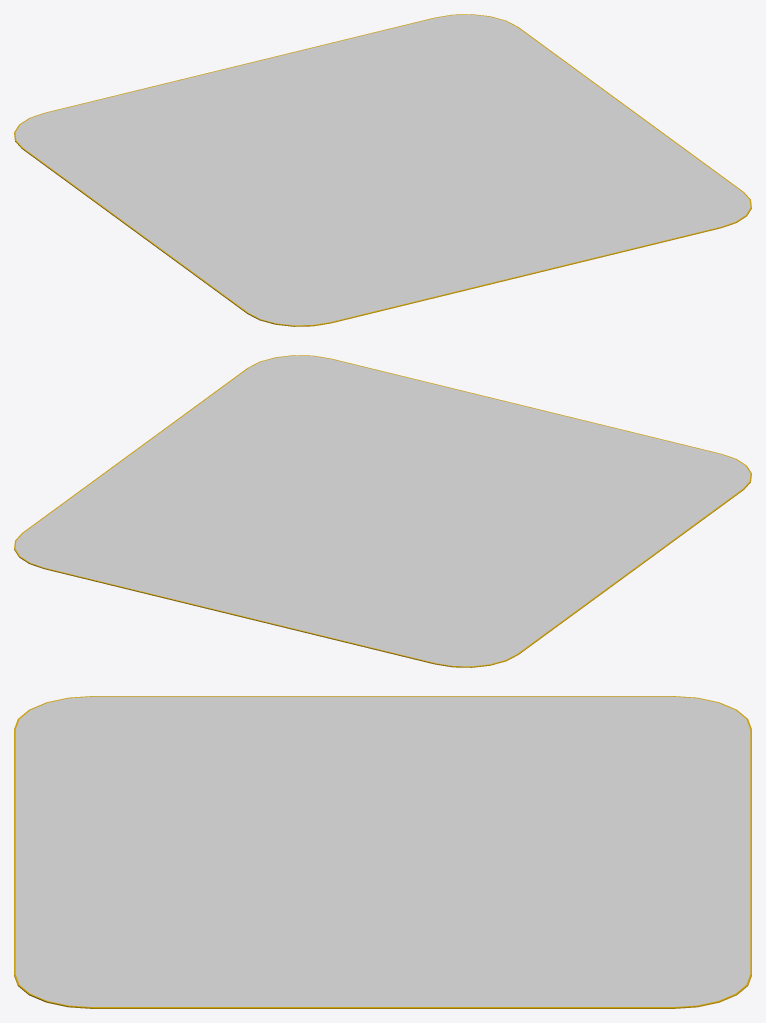
The model's file is Vereda.fbx.
The picture shows the model from 3 angles, top to bottom: view 1: azimuth 30°, elevation 25°; view 2: azimuth 150°, elevation 25°; view 3: azimuth 270°, elevation 25°; orthographic projection. The views are drawn at different scales.
Visible parts, largest first — view 1: Cube.2736; view 2: Cube.2736; view 3: Cube.2736.
Part boxes in pixels (x1,y1,x2,y2): Cube.2736: (14, 14, 751, 326); Cube.2736: (14, 355, 751, 667); Cube.2736: (14, 696, 751, 1008).
Bounding box in the file's own units: 12562 × 20 × 12563.
Materials: 2 (1 with a texture image).
